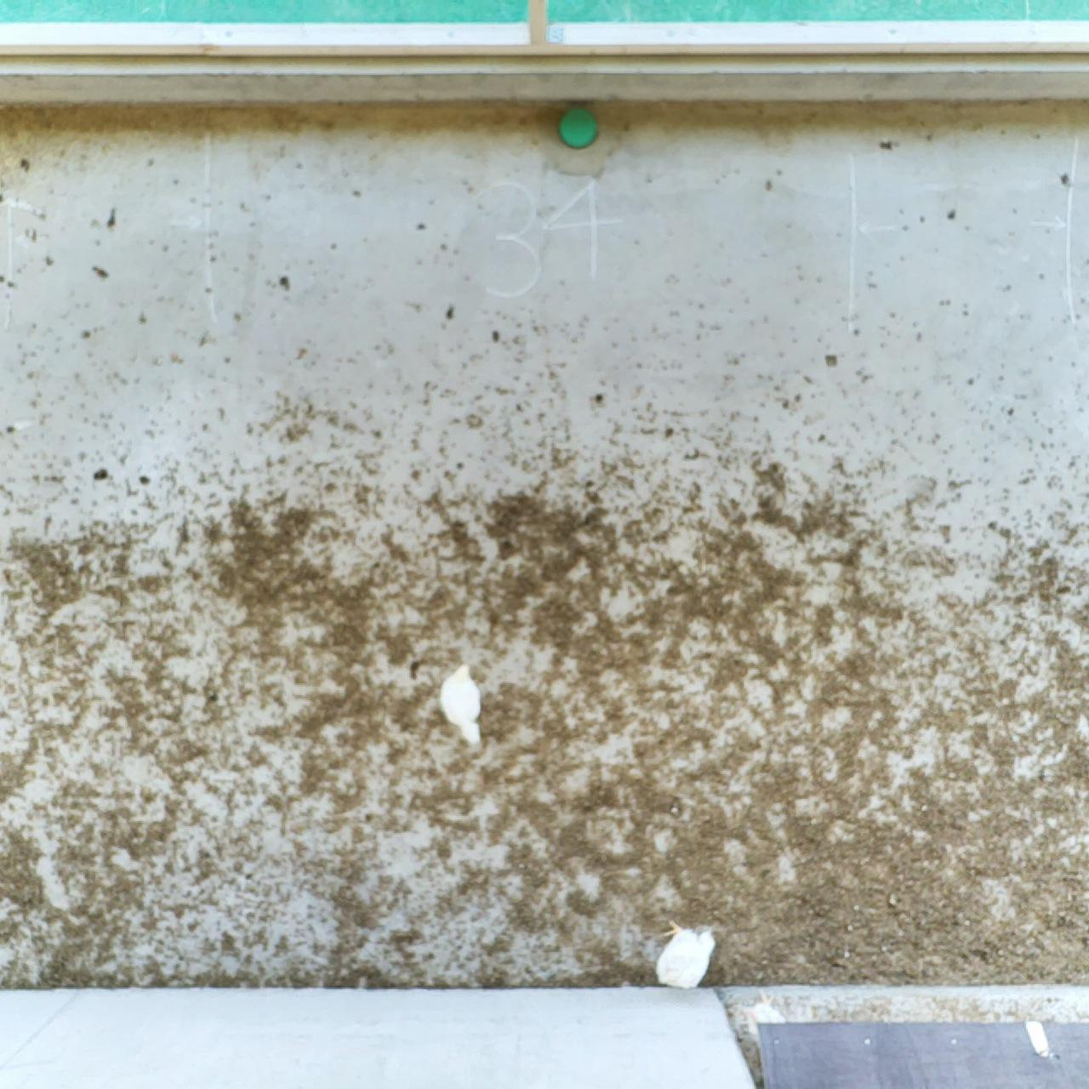chicken: (644, 912, 720, 1001), (432, 657, 492, 755)
